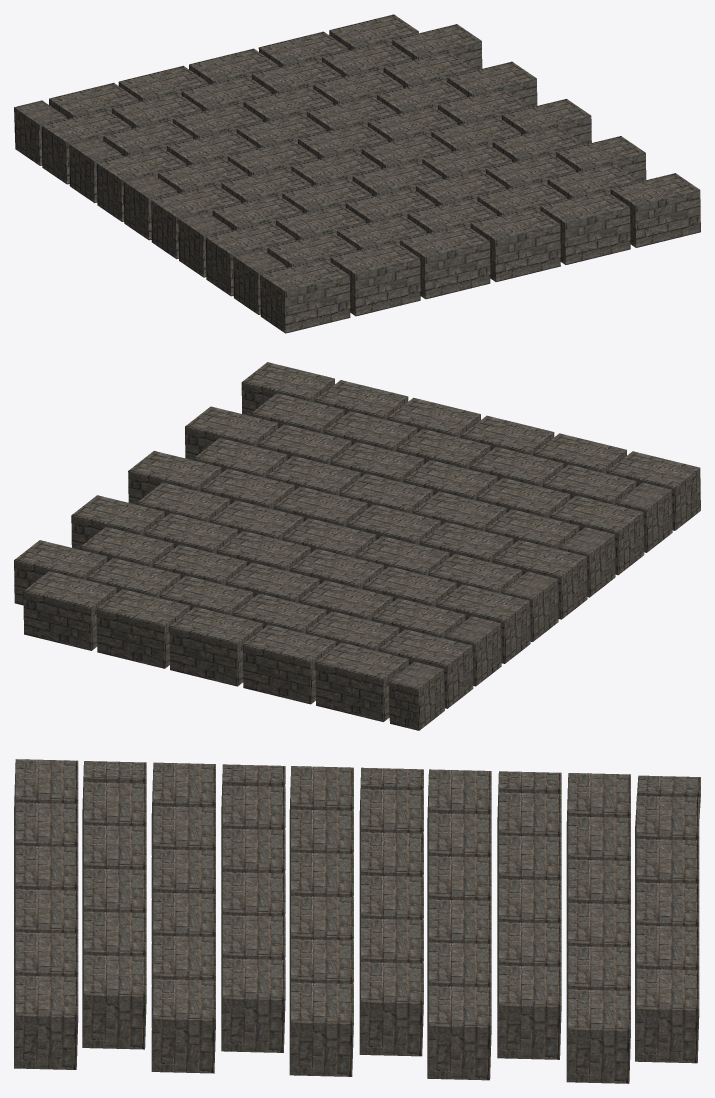
Rendered from pisobordeotro2.fbx.
The picture shows the model from 3 angles, top to bottom: view 1: azimuth 30°, elevation 25°; view 2: azimuth 150°, elevation 25°; view 3: azimuth 270°, elevation 25°; orthographic projection. The views are drawn at different scales.
Visible parts, largest first — view 1: polySurface79; view 2: polySurface79; view 3: polySurface79.
Boxes of the visible parts, <box> form: polySurface79: <box>14,14,700,333</box>; polySurface79: <box>14,362,700,730</box>; polySurface79: <box>14,759,700,1083</box>.
Bounding box in the file's own units: 10.39 × 1.32 × 11.76.
